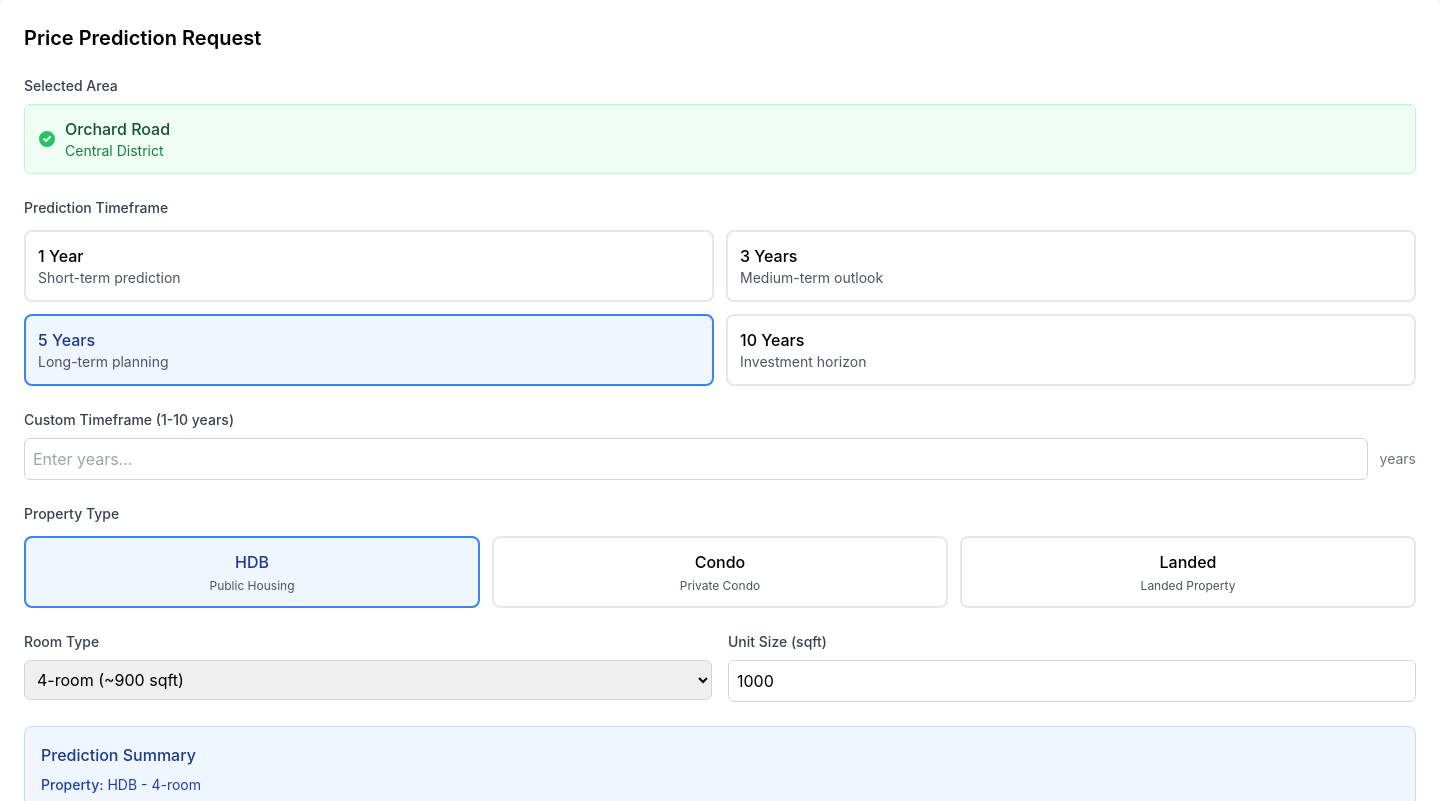
PredictionForm Component › updates room type and unit size when property type changes
The image size is (1440, 801).
Click the text "Condo": (720, 562) [695,552,745,572]
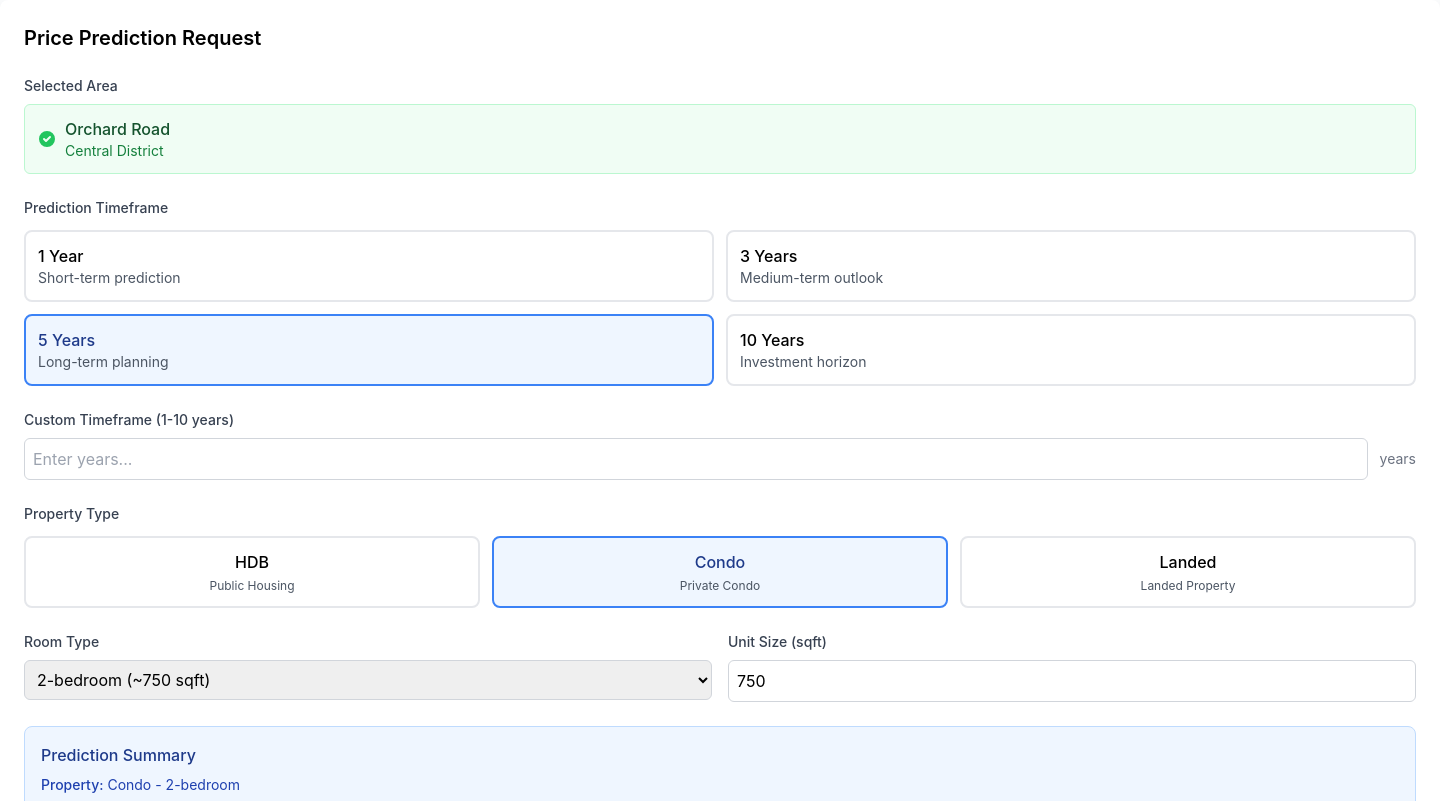
Now the dropdown showing "bedroom" is shown, box [24,660,712,700]
